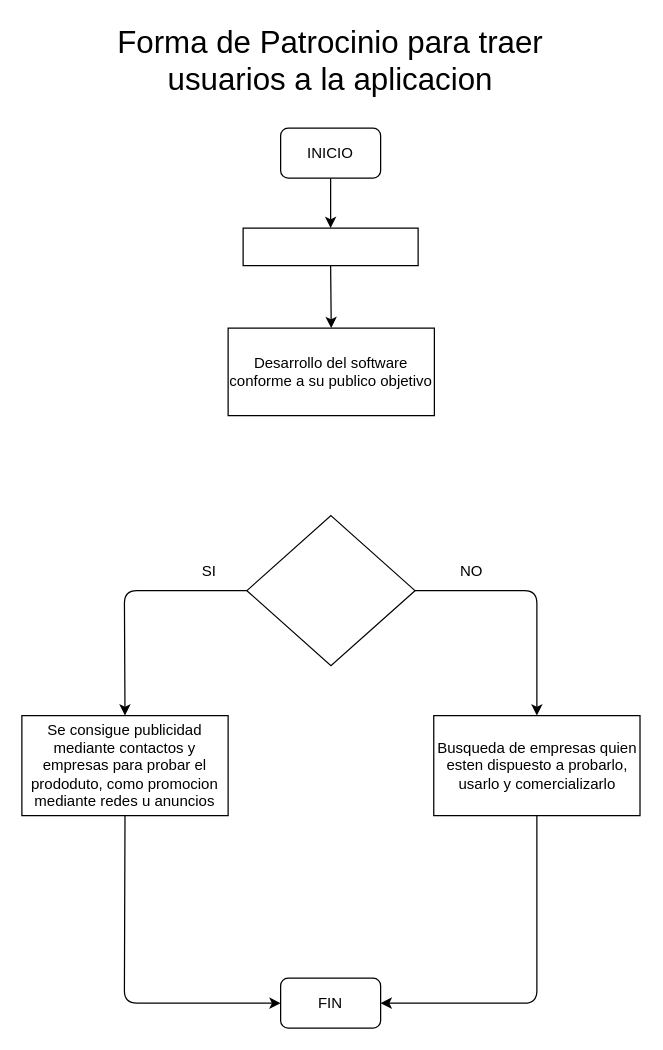
The diagram is 663 pixels wide and 1050 high, and some of its shapes have lost their labels. Each missing label, with the box of its shape:
Analisis de necesidad: (242, 227, 418, 266)
Se tiene a un SPONSOR o Publico Base: (246, 514, 415, 666)
